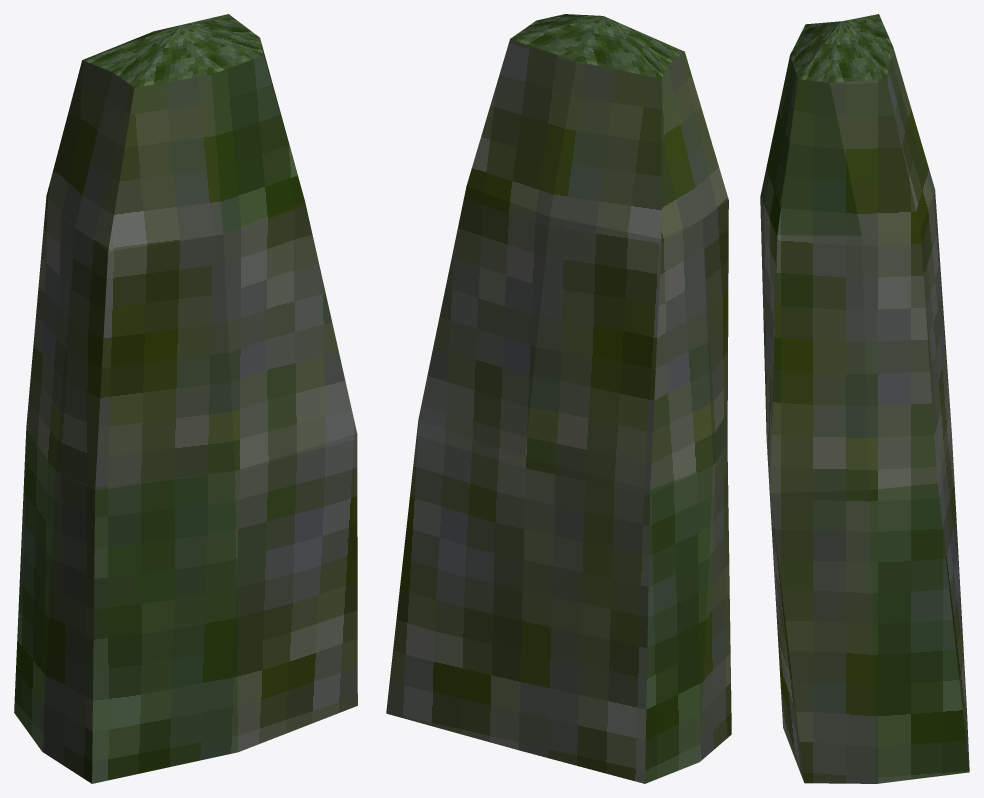
File: standing_stone.glb
3 views of the same model, side by side, from view 1: azimuth 30°, elevation 25°; view 2: azimuth 150°, elevation 25°; view 3: azimuth 270°, elevation 25° (orthographic). The views are drawn at different scales.
Visible parts, largest first — view 1: standing_stone_Stone_Rock, standing_stone_Stone_Moss; view 2: standing_stone_Stone_Rock, standing_stone_Stone_Moss; view 3: standing_stone_Stone_Rock, standing_stone_Stone_Moss.
Boxes of the visible parts, box(x1,y1,x2,y2) form: standing_stone_Stone_Rock: box(26, 60, 357, 783); standing_stone_Stone_Moss: box(14, 14, 304, 783); standing_stone_Stone_Rock: box(386, 39, 731, 783); standing_stone_Stone_Moss: box(510, 14, 713, 783); standing_stone_Stone_Rock: box(760, 48, 969, 783); standing_stone_Stone_Moss: box(760, 14, 969, 783).
Bounding box in the file's own units: 1.24 × 2.96 × 0.8047.
Materials: 2 (2 with a texture image).
